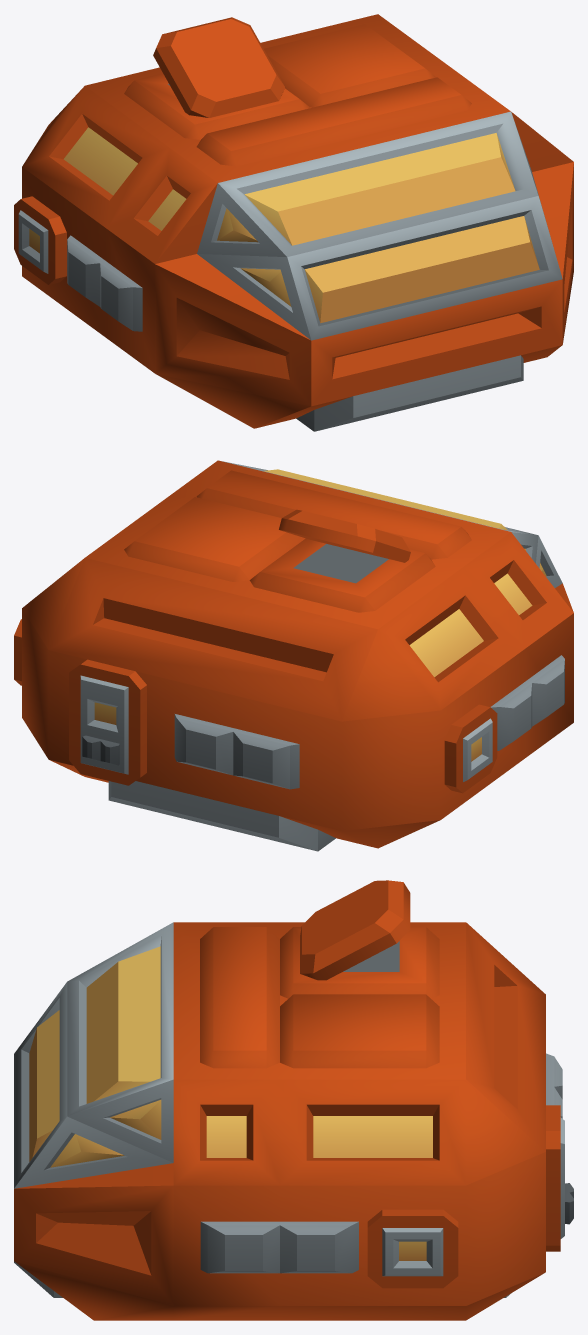
The model's file is mobile_base_command.gltf.
3 renders of one model, top to bottom at view 1: azimuth 30°, elevation 25°; view 2: azimuth 150°, elevation 25°; view 3: azimuth 270°, elevation 25°, orthographic. The views are drawn at different scales.
Visible parts, largest first — view 1: mobile_base_command; view 2: mobile_base_command; view 3: mobile_base_command.
Boxes of the visible parts, x1,y1,x2,y2 form: mobile_base_command: [14, 14, 573, 431]; mobile_base_command: [14, 460, 573, 851]; mobile_base_command: [14, 880, 573, 1320].
Size of the model in its own units: 2.14 by 1.3 by 2.11.
1 material, 1 textured.
